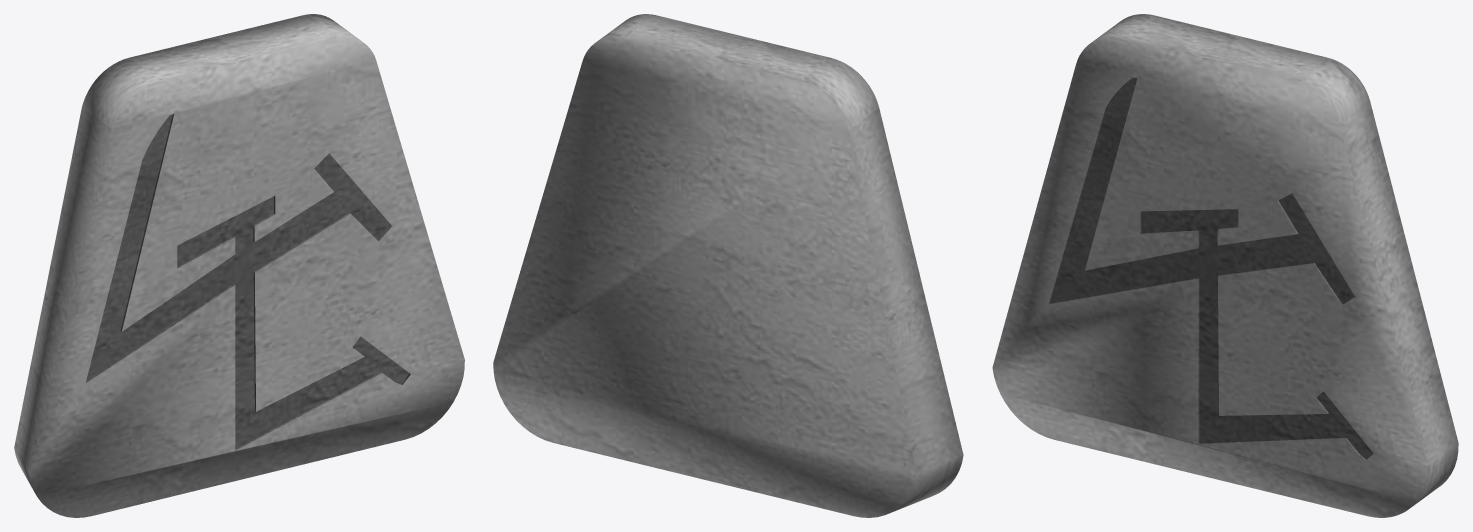
The picture shows the model from 3 angles, left to right: view 1: azimuth 30°, elevation 25°; view 2: azimuth 150°, elevation 25°; view 3: azimuth 330°, elevation 25°; orthographic projection.
Parts seen in each view (by area): view 1: SketchUp (×2); view 2: SketchUp; view 3: SketchUp (×2).
Part boxes in pixels (x1,y1,x2,y2): SketchUp (×2): (14,14,464,517); SketchUp: (493,14,963,517); SketchUp (×2): (992,14,1458,517).
Bounding box in the file's own units: 13.73 × 1.69 × 12.62.
2 materials, 2 textured.
